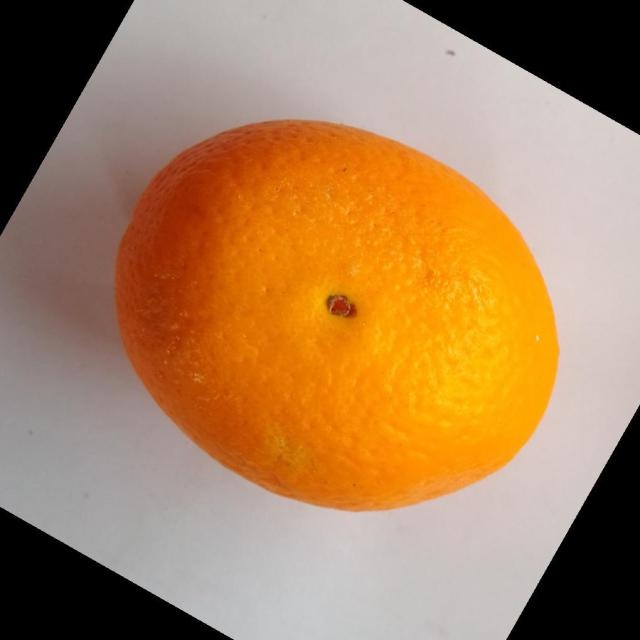agrume: (113, 116, 560, 512)
